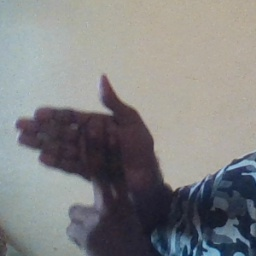N: (13, 71, 163, 225)
